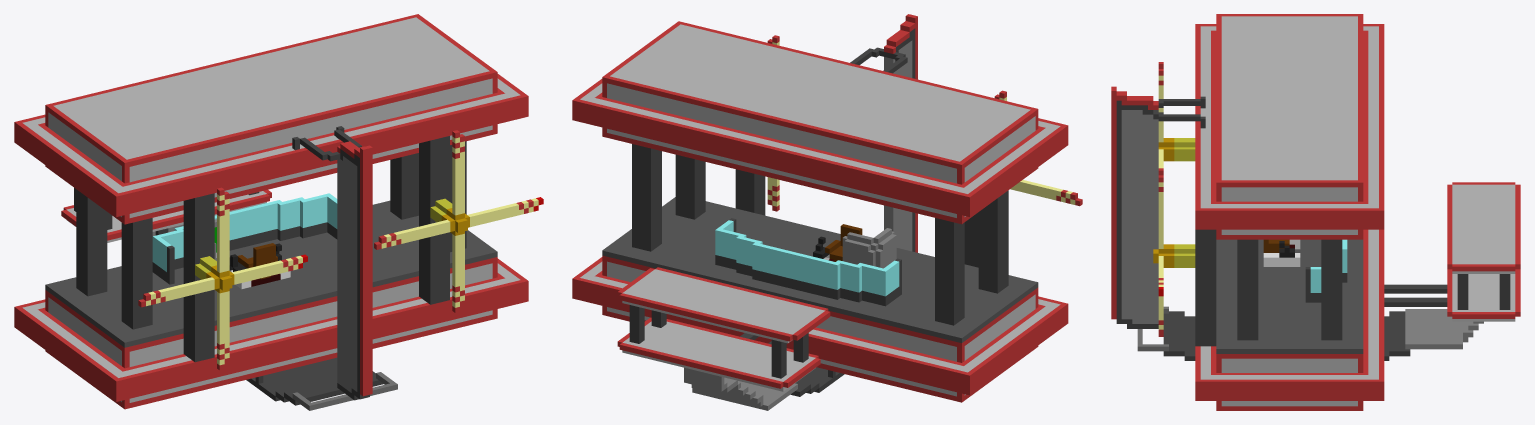
Rendered from Rabbit Flyer (sin conejo).obj.
3 renders of one model, left to right at view 1: azimuth 30°, elevation 25°; view 2: azimuth 150°, elevation 25°; view 3: azimuth 270°, elevation 25°, orthographic. The views are drawn at different scales.
Bounding box in the file's own units: 8.4 × 5.4 × 7.8.
1 material, 1 textured.
